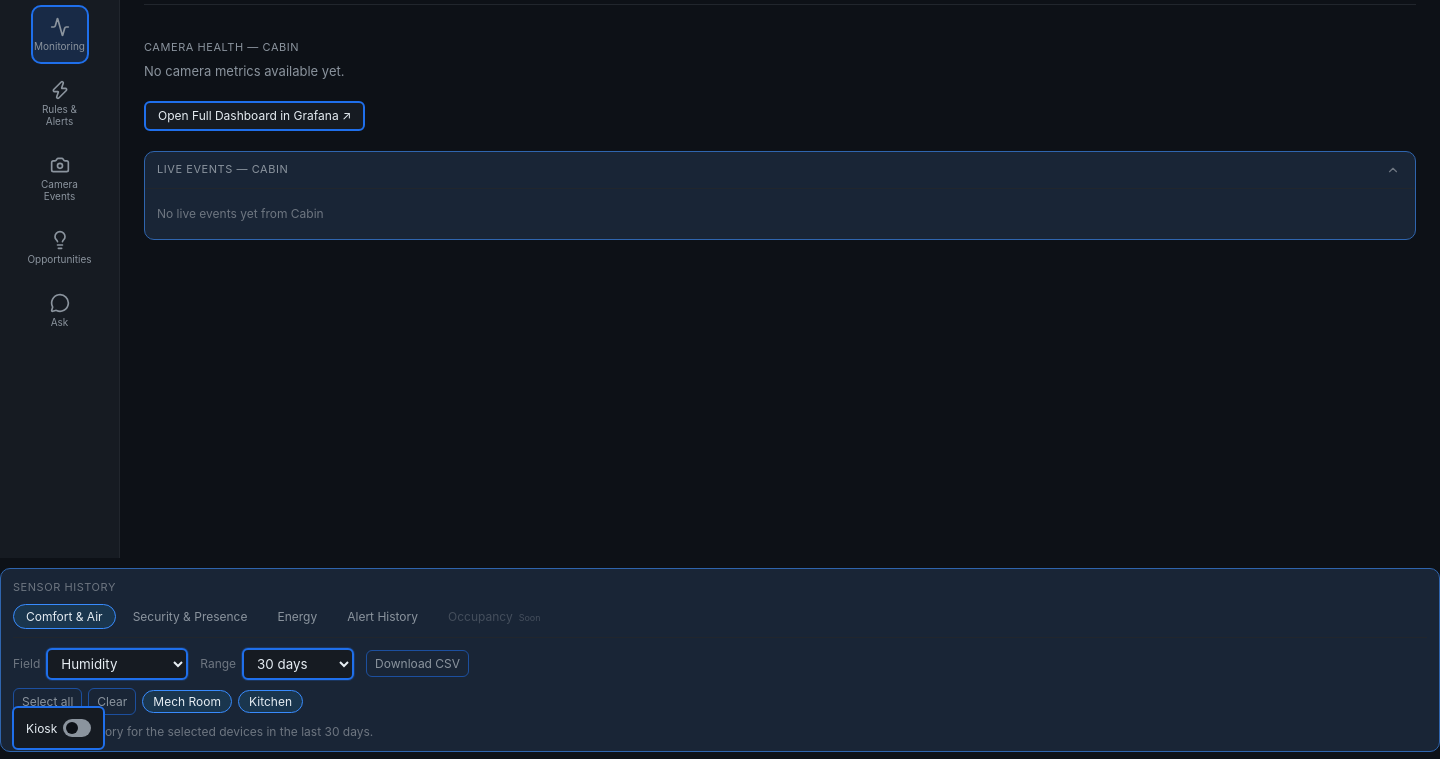
SensorHistoryPanel › D16 Topic tab-strip › Alert History tab shows currently active alerts from GET /api/alerts/active
(page scrolled)
Click the tab "Alert History" at (383, 616), box [334,604,431,628]
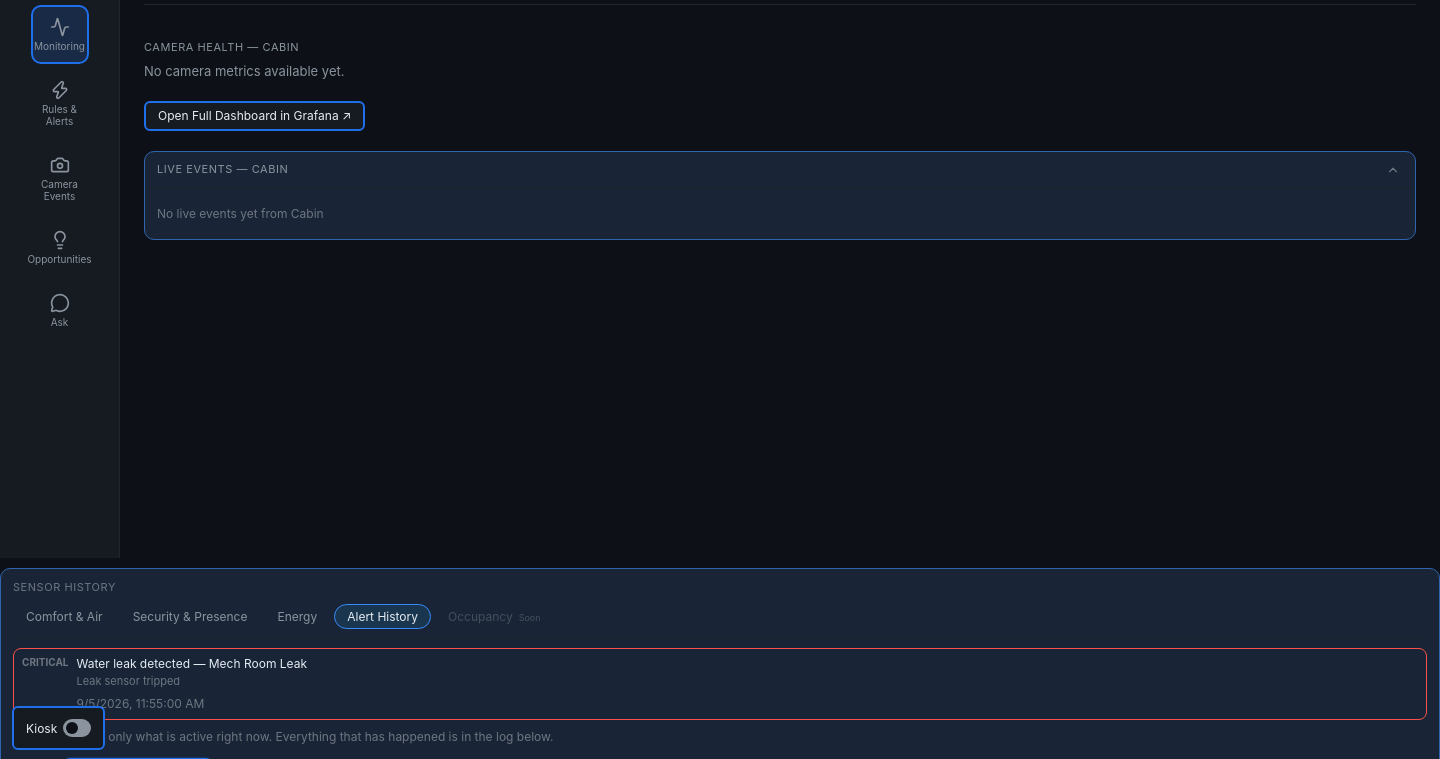
Expected: the text "Water leak detected — Mech Room Leak" is shown, [76,654,307,672]
Expected: the text "CRITICAL" is shown, [22,654,68,670]
